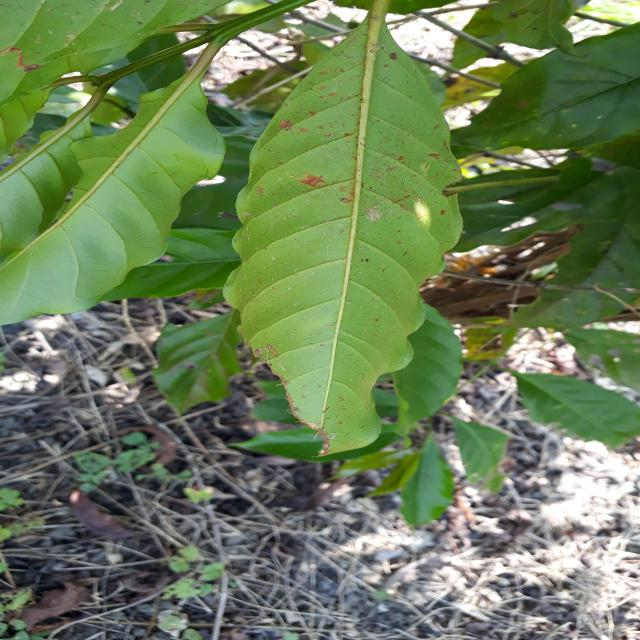Plaga-AranaRoja: (224, 0, 463, 456)
